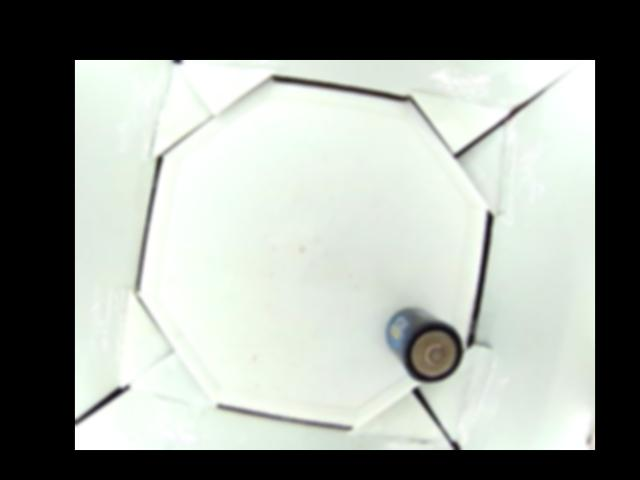Battery: (386, 308, 465, 383)
